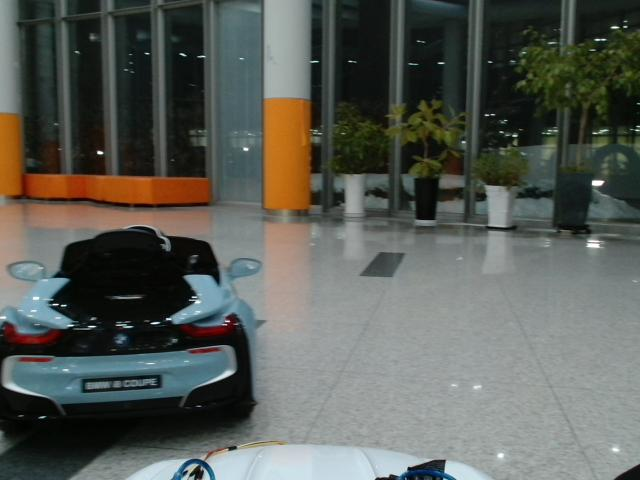car: (1, 225, 264, 435)
